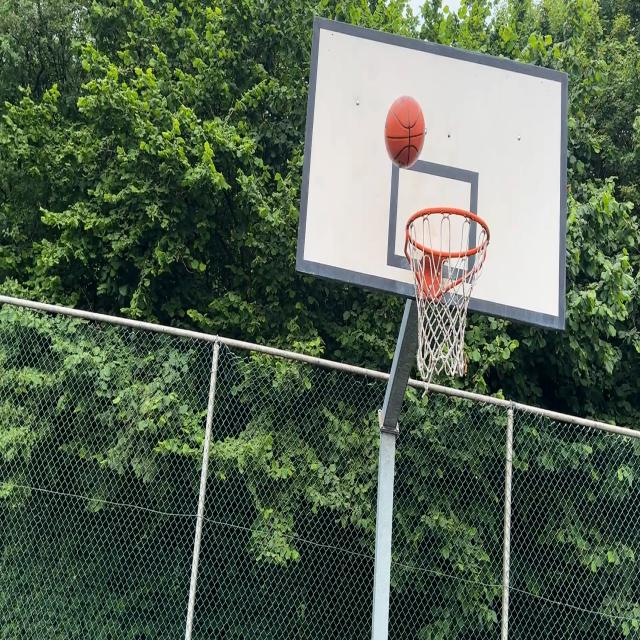Basketball: (386, 93, 428, 167)
